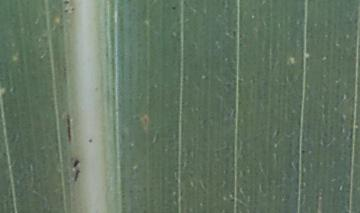tarspot: (66, 115, 72, 142), (73, 160, 80, 168), (76, 169, 80, 180), (171, 5, 177, 11), (70, 6, 75, 13), (64, 1, 70, 6), (64, 8, 69, 14), (88, 137, 92, 144)
